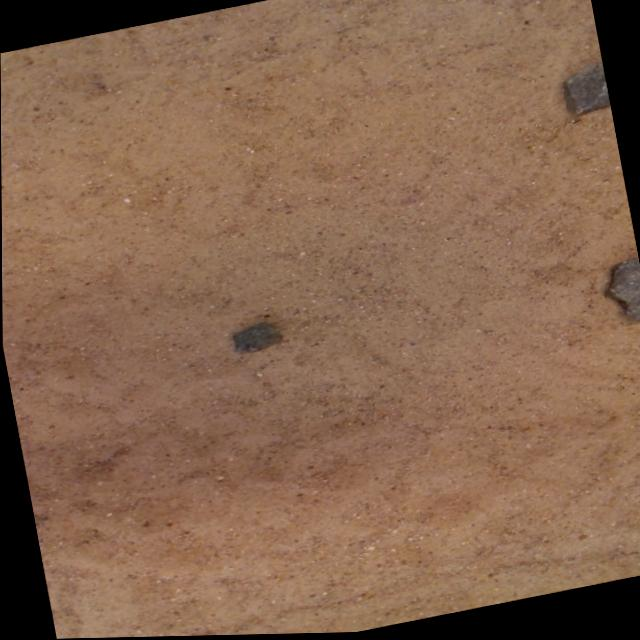rock: (564, 64, 610, 116), (608, 260, 640, 322), (233, 322, 282, 352)
